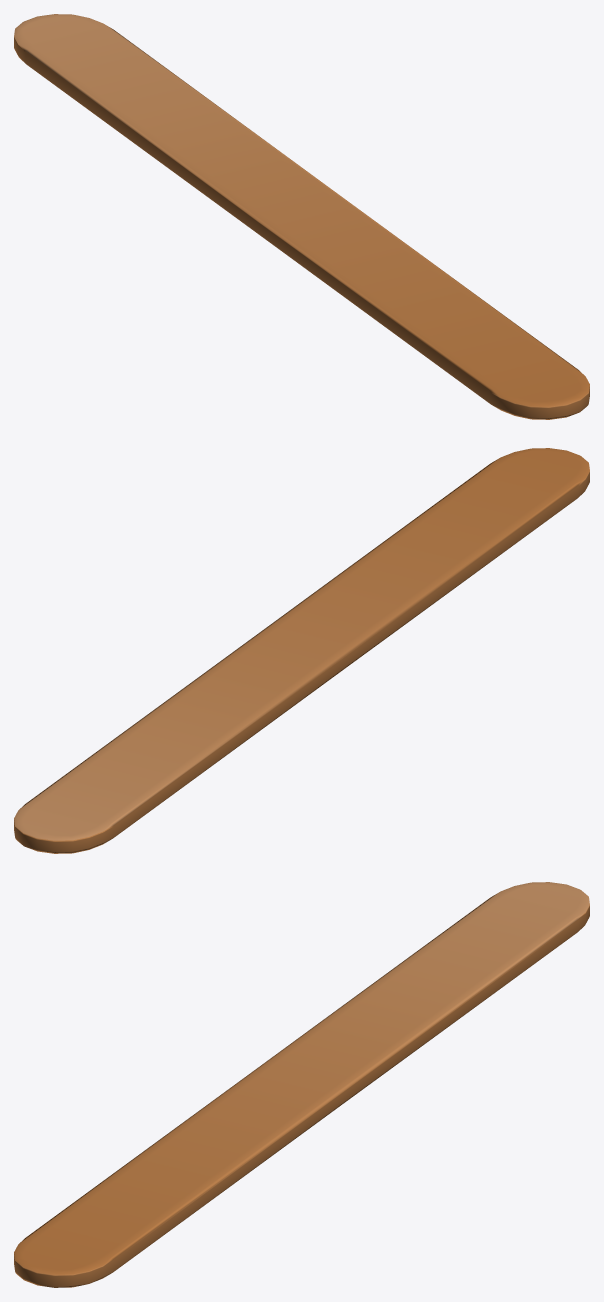
The model's file is Stick V1.fbx.
3 renders of one model, top to bottom at view 1: azimuth 30°, elevation 25°; view 2: azimuth 150°, elevation 25°; view 3: azimuth 330°, elevation 25°, orthographic.
Visible parts, largest first — view 1: Stick.009; view 2: Stick.009; view 3: Stick.009.
Boxes of the visible parts, left/top/right/bottom form: Stick.009: left=14, top=14, right=589, bottom=419; Stick.009: left=14, top=448, right=589, bottom=853; Stick.009: left=14, top=882, right=589, bottom=1287.
Bounding box in the file's own units: 26.74 × 4.29 × 278.
